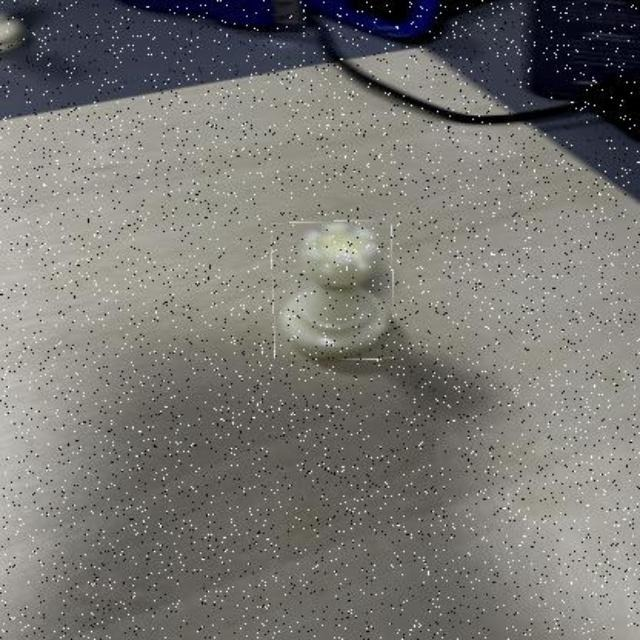white-rook: (273, 220, 394, 361)
